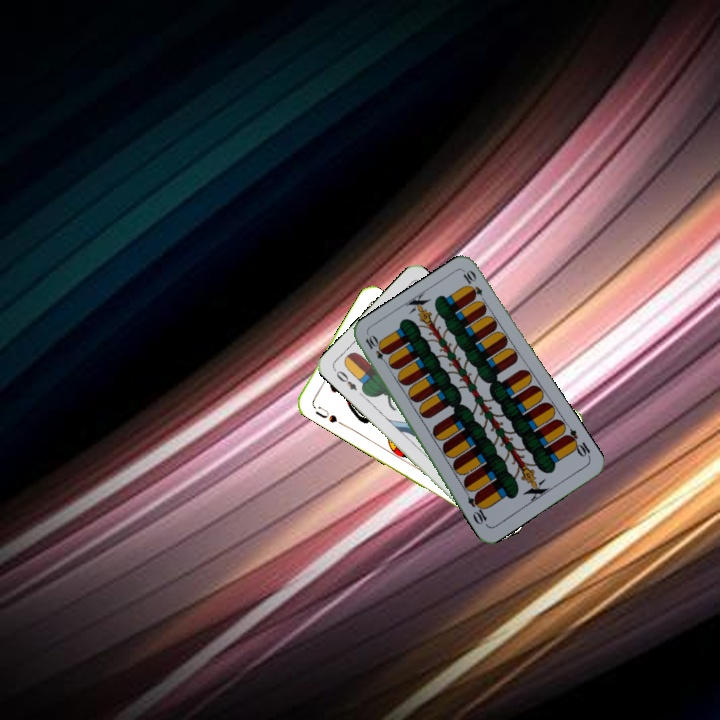E10: (561, 425, 593, 461), (361, 331, 392, 368)
EO: (330, 365, 360, 393)
SU: (311, 402, 345, 427)
